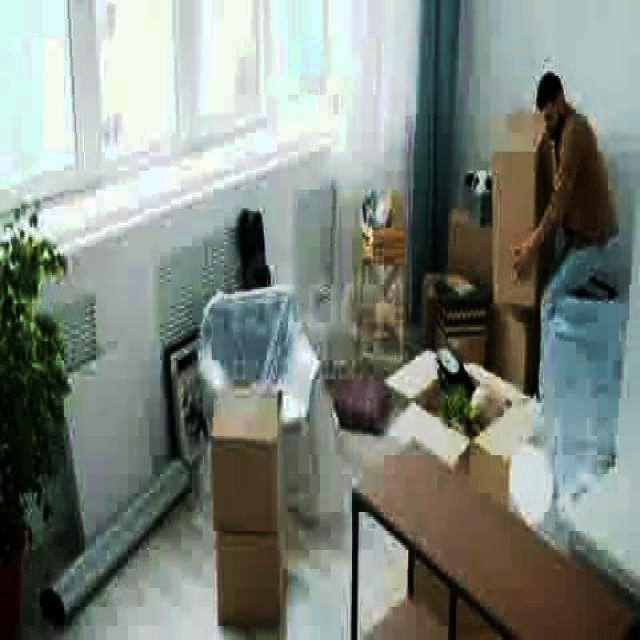Box: (210, 398, 270, 534), (221, 528, 287, 628)
